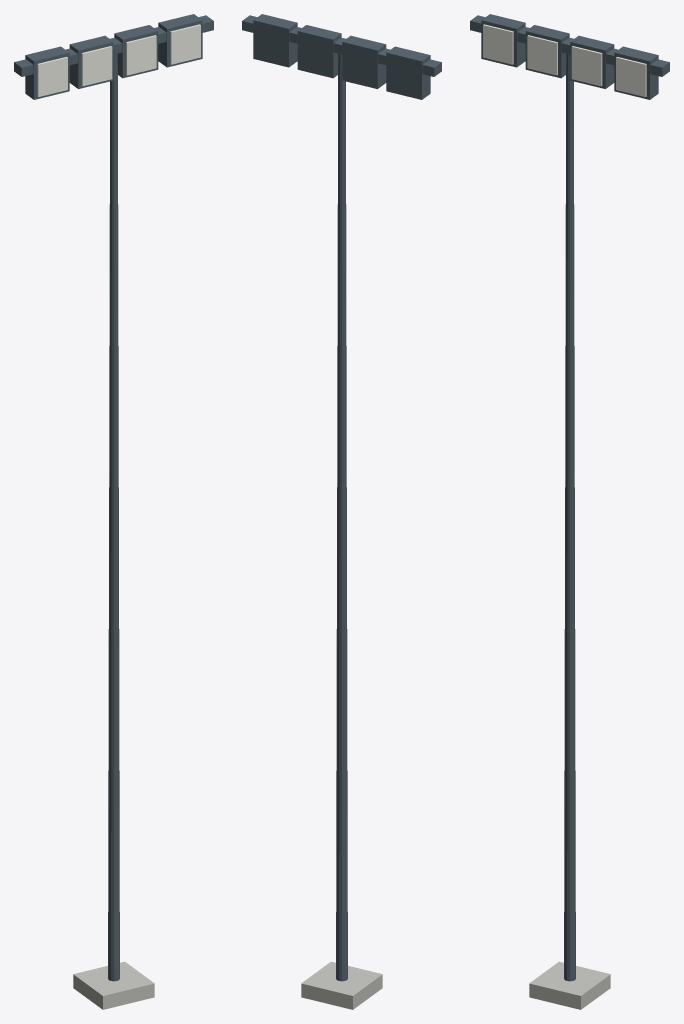
Rendered from stadlight.glb.
3 renders of one model, left to right at view 1: azimuth 30°, elevation 25°; view 2: azimuth 150°, elevation 25°; view 3: azimuth 330°, elevation 25°, orthographic.
Visible parts, largest first — view 1: floodlight-mast; view 2: floodlight-mast; view 3: floodlight-mast.
Part boxes in pixels (x1,y1,x2,y2): floodlight-mast: (14,14,213,1009); floodlight-mast: (242,14,441,1009); floodlight-mast: (470,14,669,1009).
Bounding box in the file's own units: 2.6 × 12.35 × 0.7.
